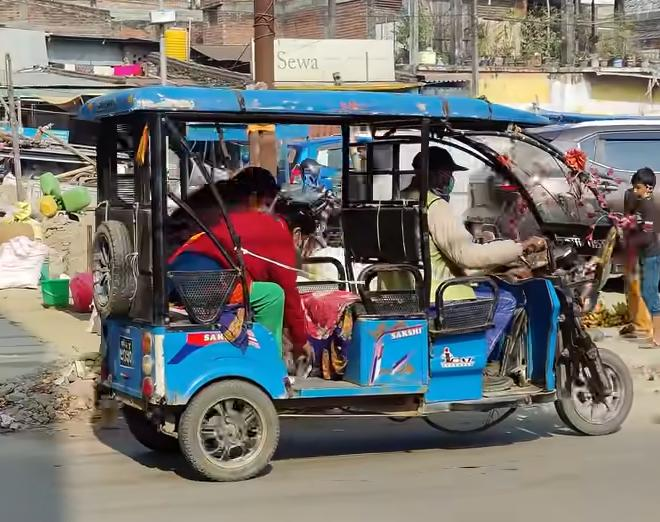e-rickshaw: (52, 80, 638, 484)
